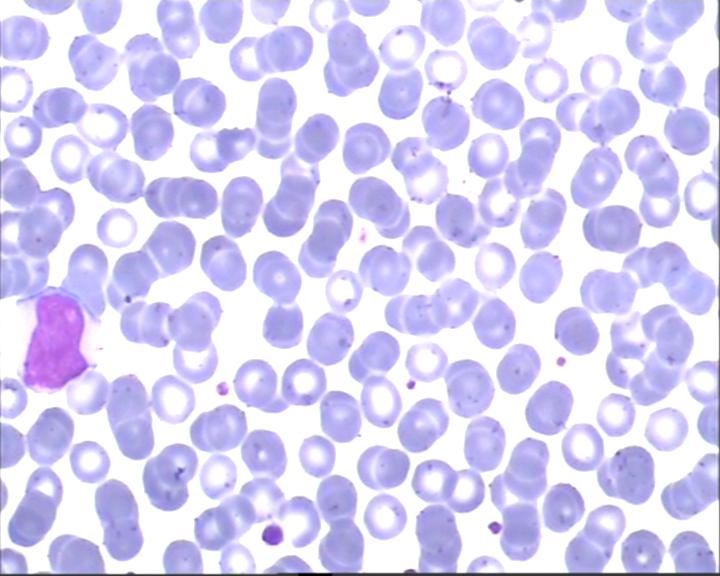mono: (1, 284, 105, 402)
